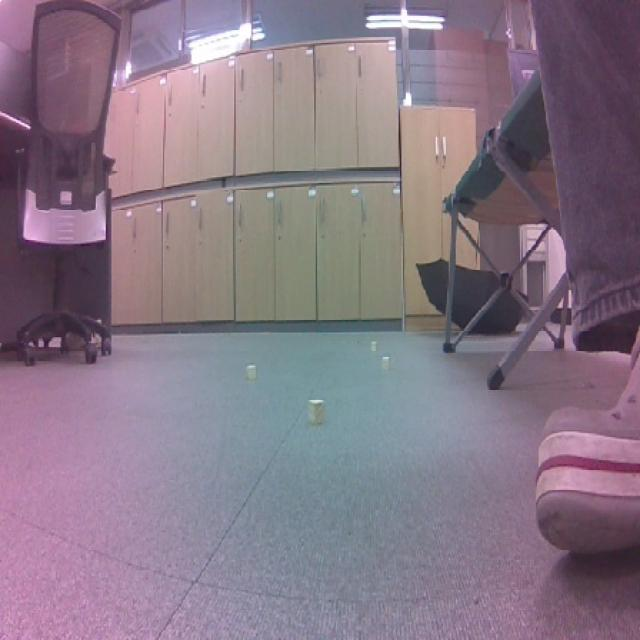obstacle: (299, 394, 333, 436)
